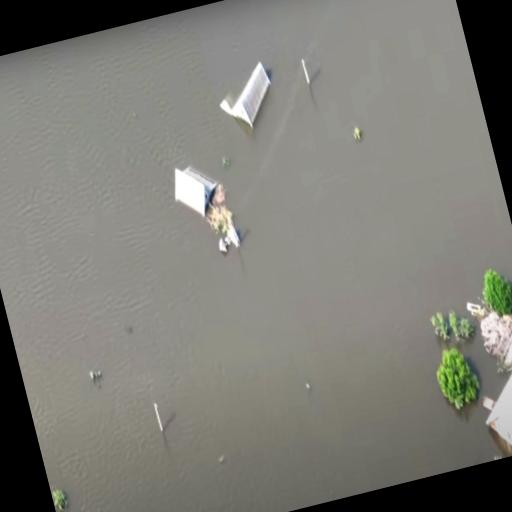flood: (168, 0, 512, 512), (0, 13, 248, 512), (453, 284, 512, 410)
house: (207, 42, 293, 158), (162, 149, 228, 228), (471, 347, 512, 460)
